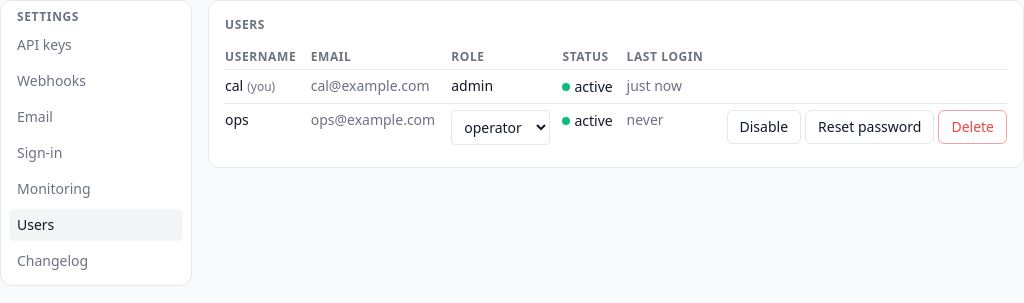
Test: Users (AC-017) › changes a role and surfaces the last-admin error inline
This screenshot has width=1024, height=303.
Expected: the row with test id "user-row" shows "(you)", [247,78,275,95]
Select "admin" in the dropdown named "Role for ops" at (501, 128), box [451,110,550,145]
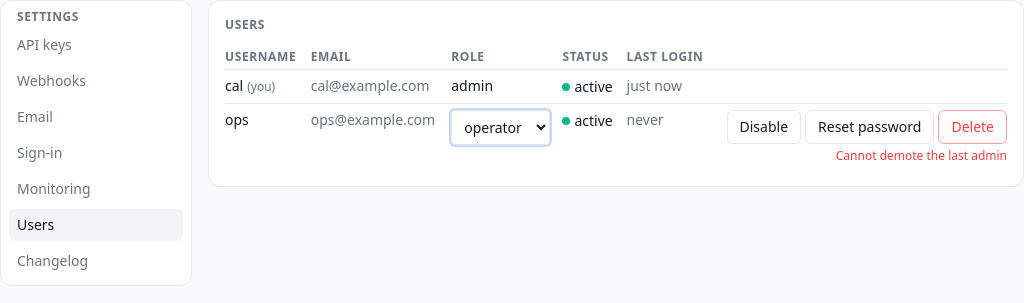
Now the message reads "Cannot demote the last admin", box [836,147,1007,164]
